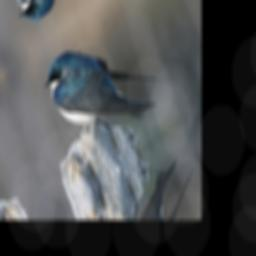Swallow: (40, 0, 170, 170)
